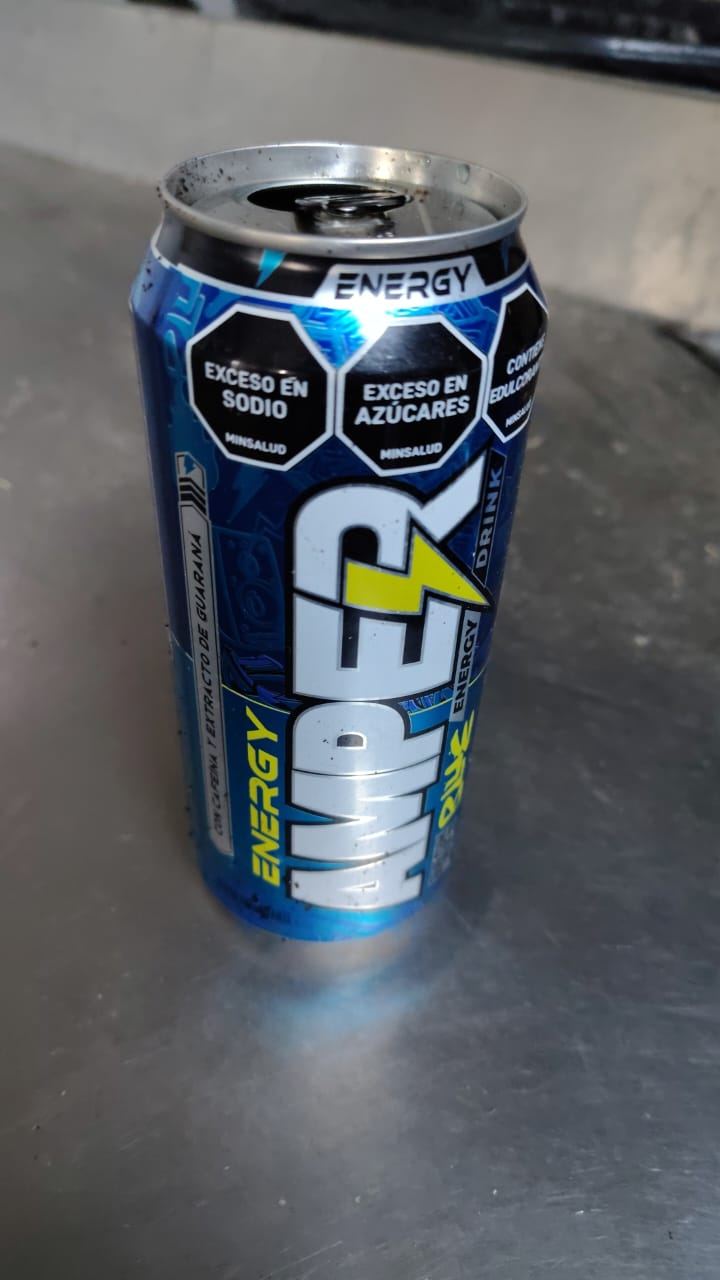Metal: (132, 139, 546, 944)
